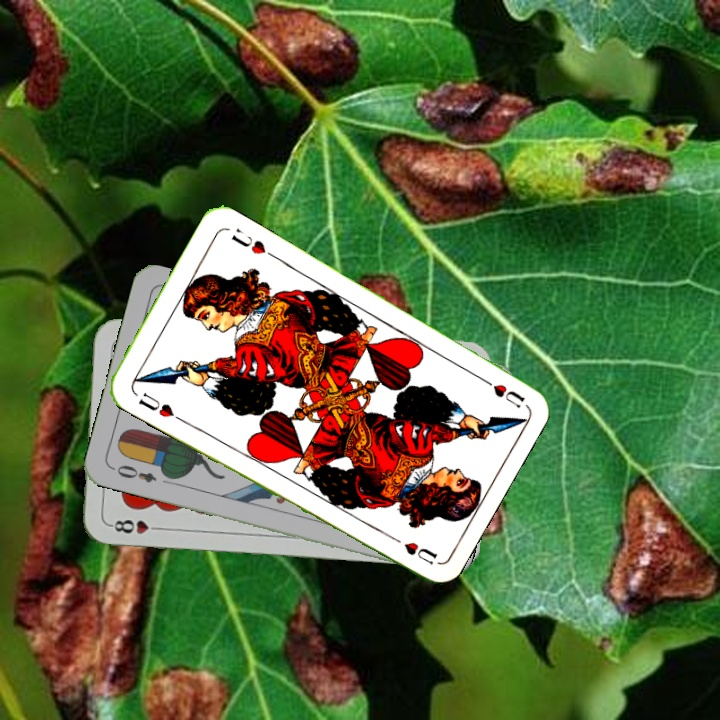EO: (108, 461, 159, 486)
H8: (106, 515, 165, 537)
HU: (473, 371, 528, 410), (134, 388, 184, 424)
